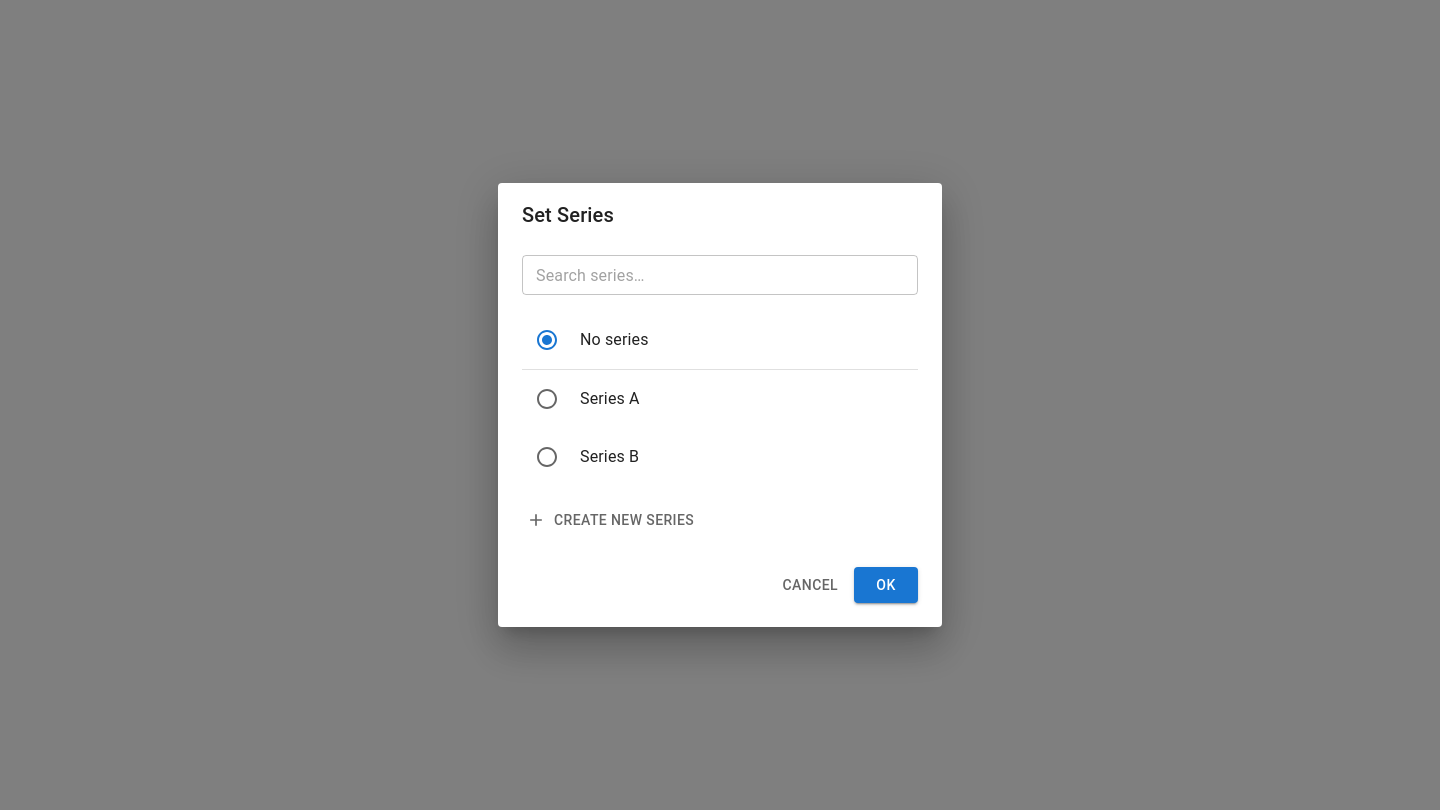
it: SetSeriesDialog › should show 'no results' message when search doesn't match
Type "Non-existent Series" into the field with placeholder "Search series…" at (720, 275), box [522,255,918,295]
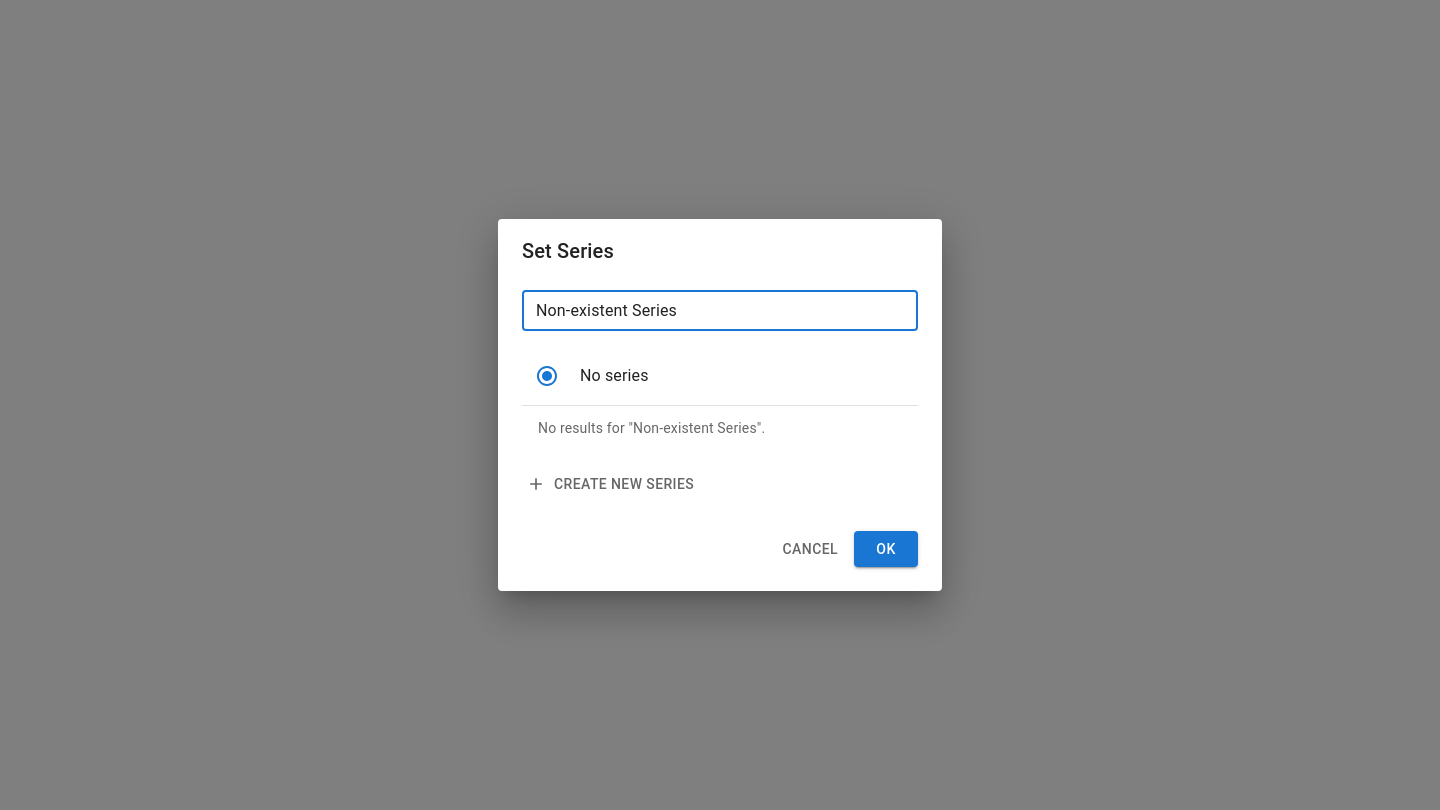
Expected: the text "No results for \"Non-existent Series\"." is shown, [538,420,765,436]
